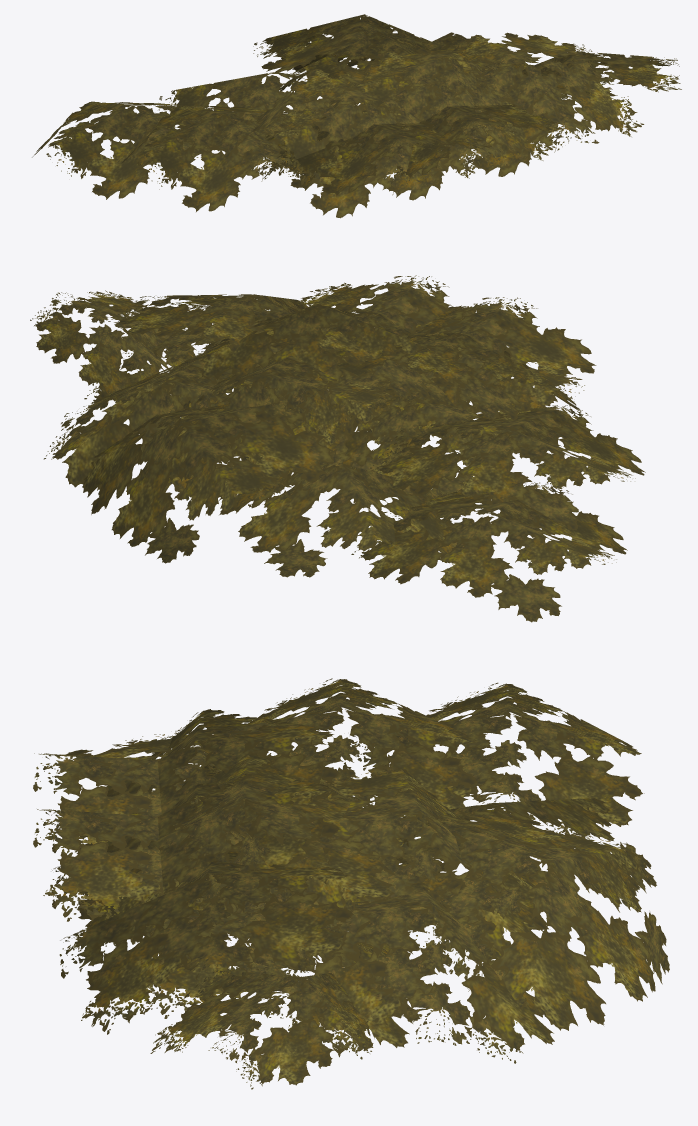
The model's file is bush_1.fbx.
3 renders of one model, top to bottom at view 1: azimuth 30°, elevation 25°; view 2: azimuth 150°, elevation 25°; view 3: azimuth 270°, elevation 25°, orthographic. The views are drawn at different scales.
Parts seen in each view (by area): view 1: bush_1; view 2: bush_1; view 3: bush_1.
Boxes of the visible parts, x1,y1,x2,y2 form: bush_1: (32,14,681,218); bush_1: (30,275,645,622); bush_1: (33,678,669,1089).
Bounding box in the file's own units: 328 × 70.91 × 217.
Materials: 1 (1 with a texture image).
